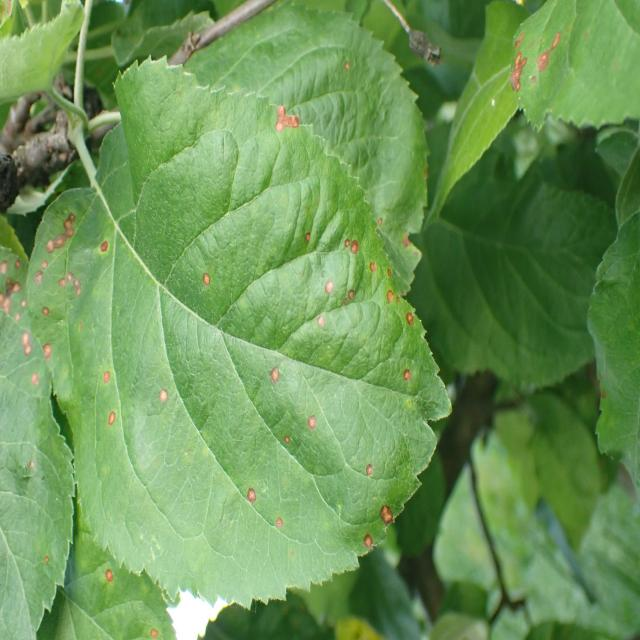frog-eye-leaf-spot: (31, 51, 454, 613), (46, 512, 178, 640)
